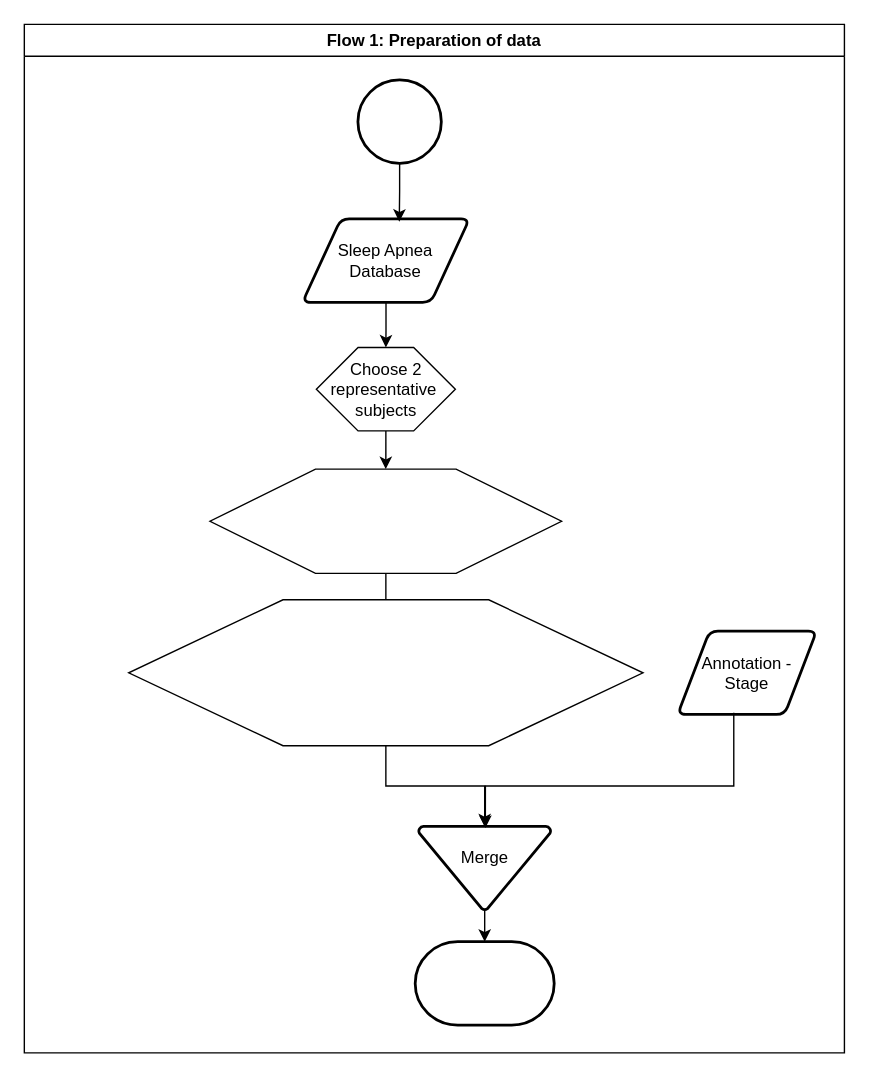
Some shapes in this 869 by 1077 pixel diagram are drawn without their labels. Here are the shapes that lost their labels. From the top down, the centre of each, then its label:
(x=385, y=520): For each subject extract .rec file to .csv
(x=385, y=672): Create new clone .csv with variables: Pulse, Oxygen saturation
